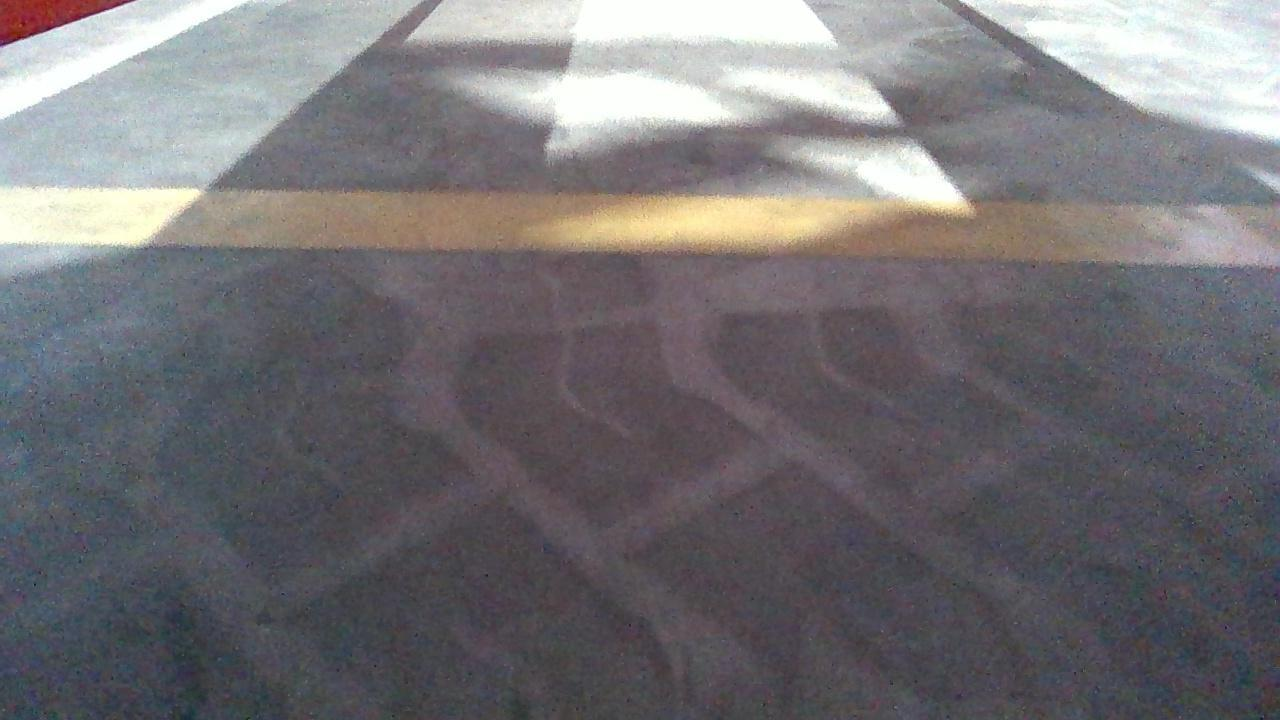yellow_line: (1, 190, 1278, 266)
